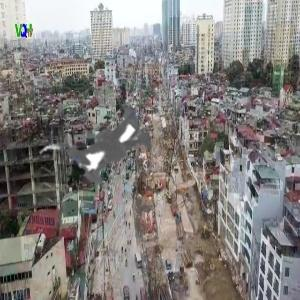drone: (15, 44, 219, 248)
